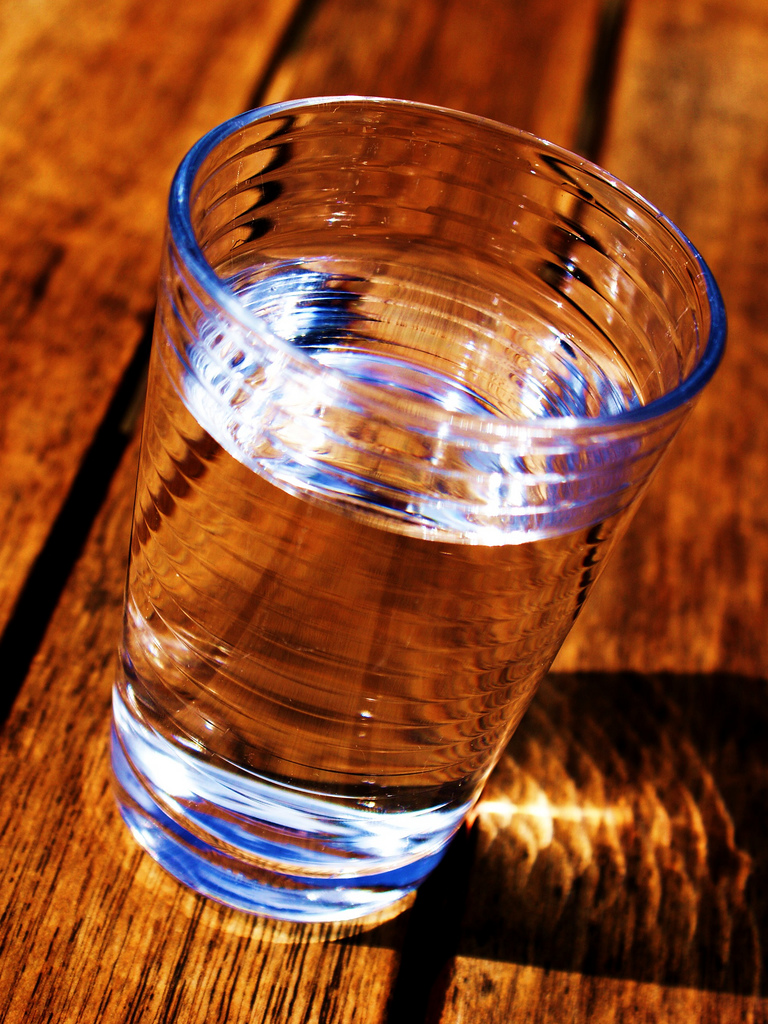glass of water: (193, 150, 584, 929)
